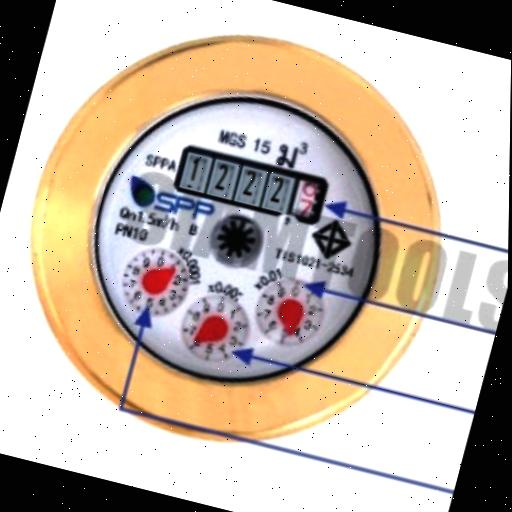1: (182, 155, 206, 191)
2: (264, 177, 289, 212), (238, 168, 262, 204), (210, 163, 234, 198)
6: (293, 179, 320, 219)
border_water_meter_number: (171, 143, 332, 228)
